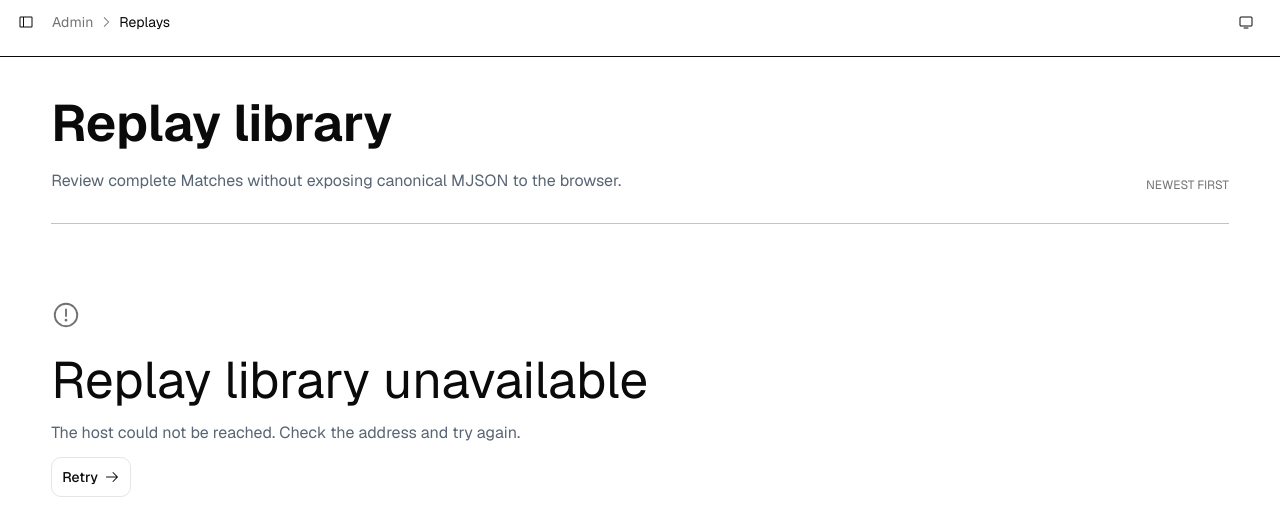
Replay Admin workspace › offers a working retry when the replay list request fails
Check: the heading "Replay library unavailable" is shown, box [51, 352, 648, 409]
Click the button "Retry": (91, 477) [51, 457, 131, 497]
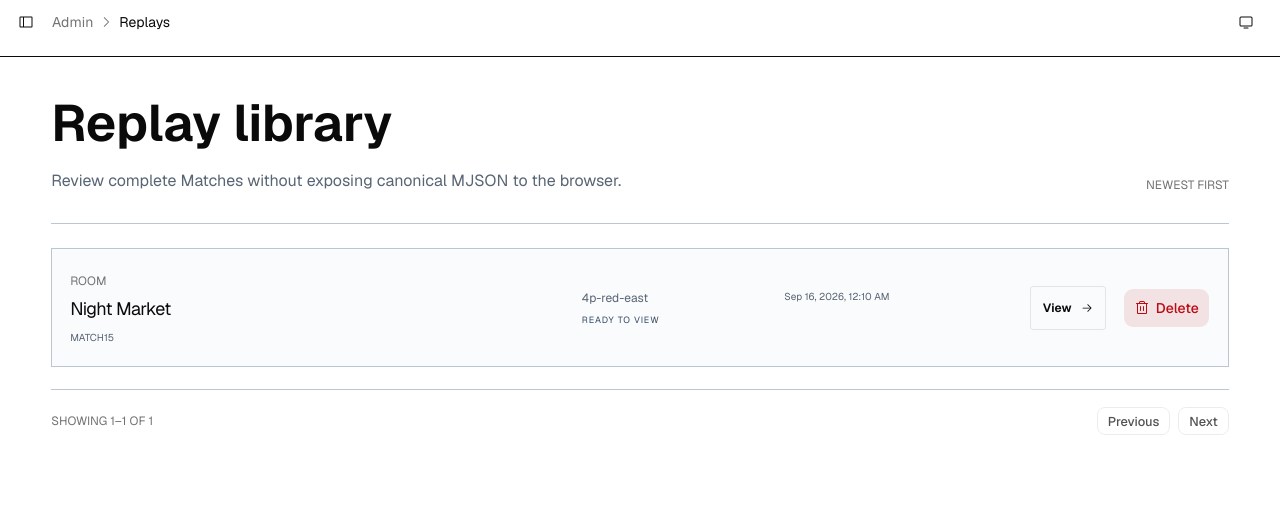
Check: the heading "Night Market" is shown, box [70, 297, 171, 320]
